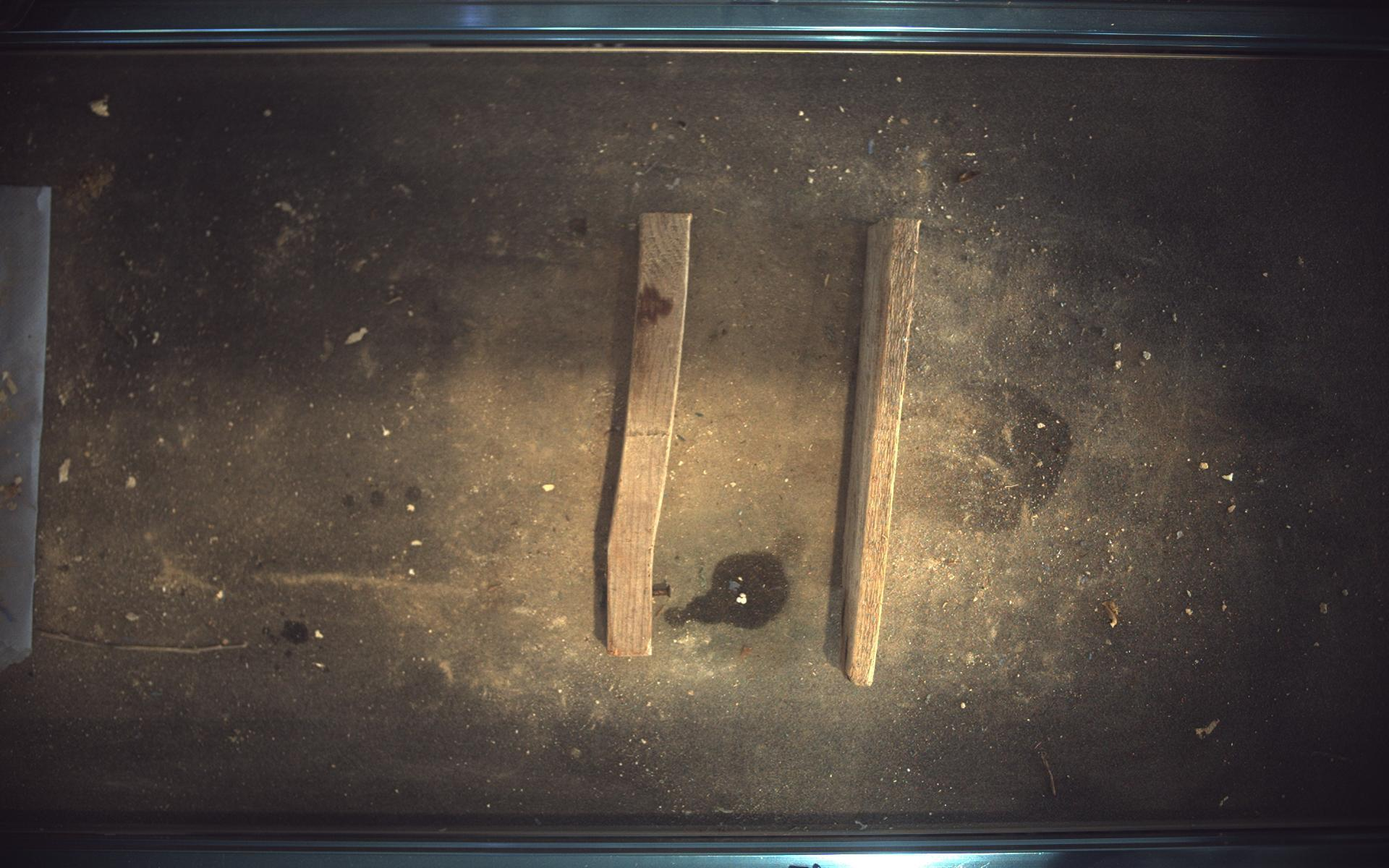wood: (607, 212, 692, 658), (844, 218, 922, 687)
